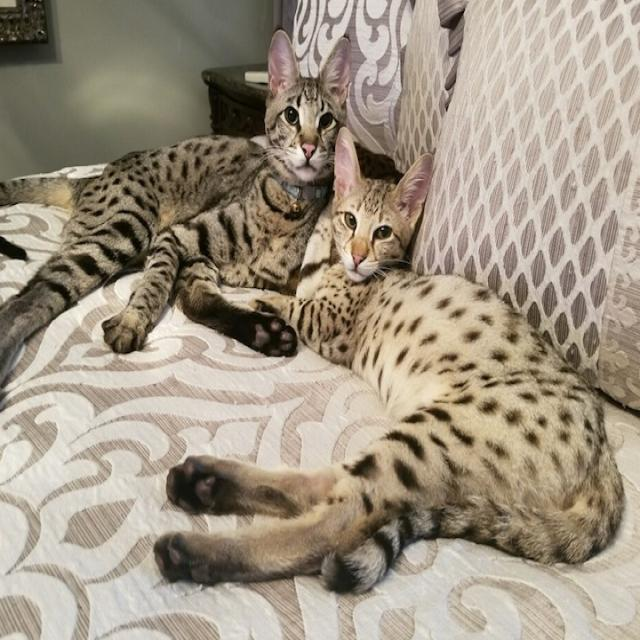Savannah: (151, 124, 629, 598), (0, 22, 348, 413)
